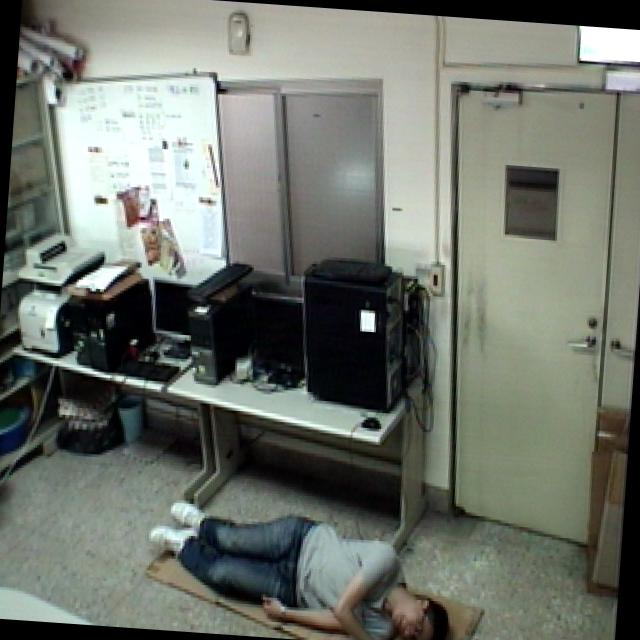lie: (134, 481, 461, 640)
